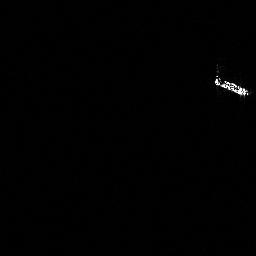ship: (212, 72, 251, 98)
